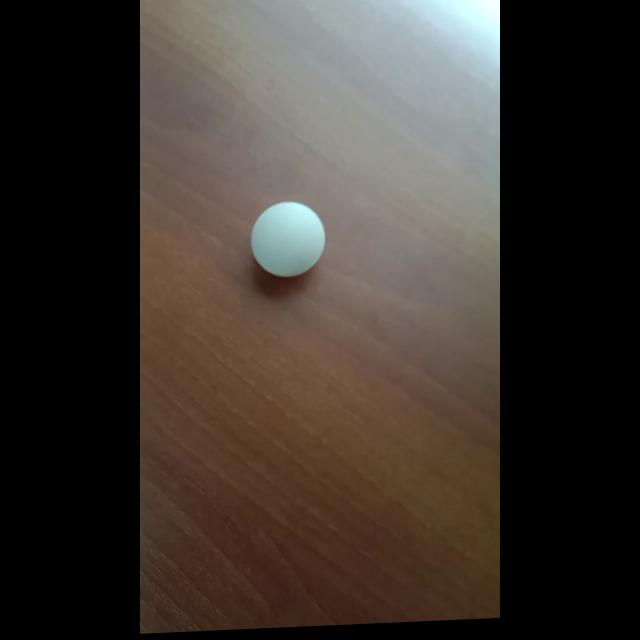white ball: (250, 199, 326, 279)
